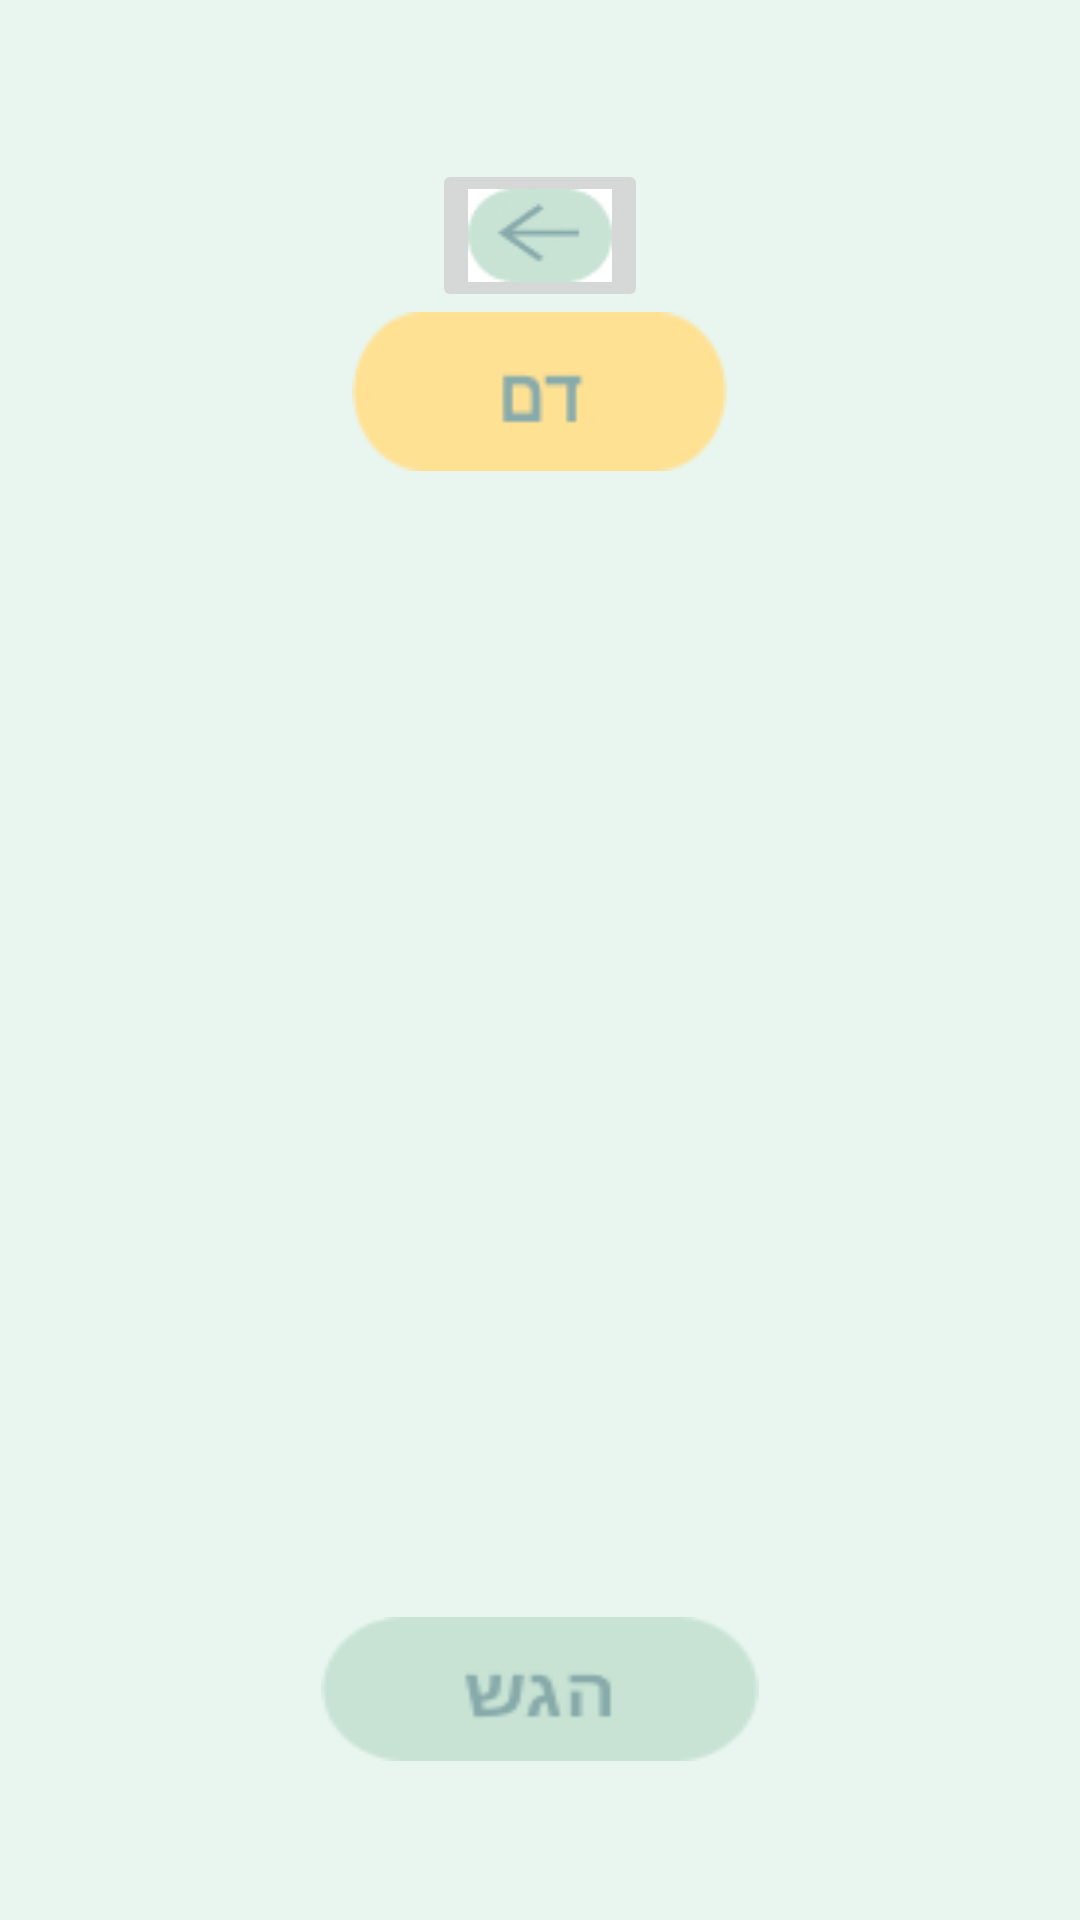

Icon bounding boxes for this 1080w x 1920h phone screenshot, format box=[x1, y1, x2, y2]:
Go To HebrewLevels: box=[444, 177, 636, 294]
